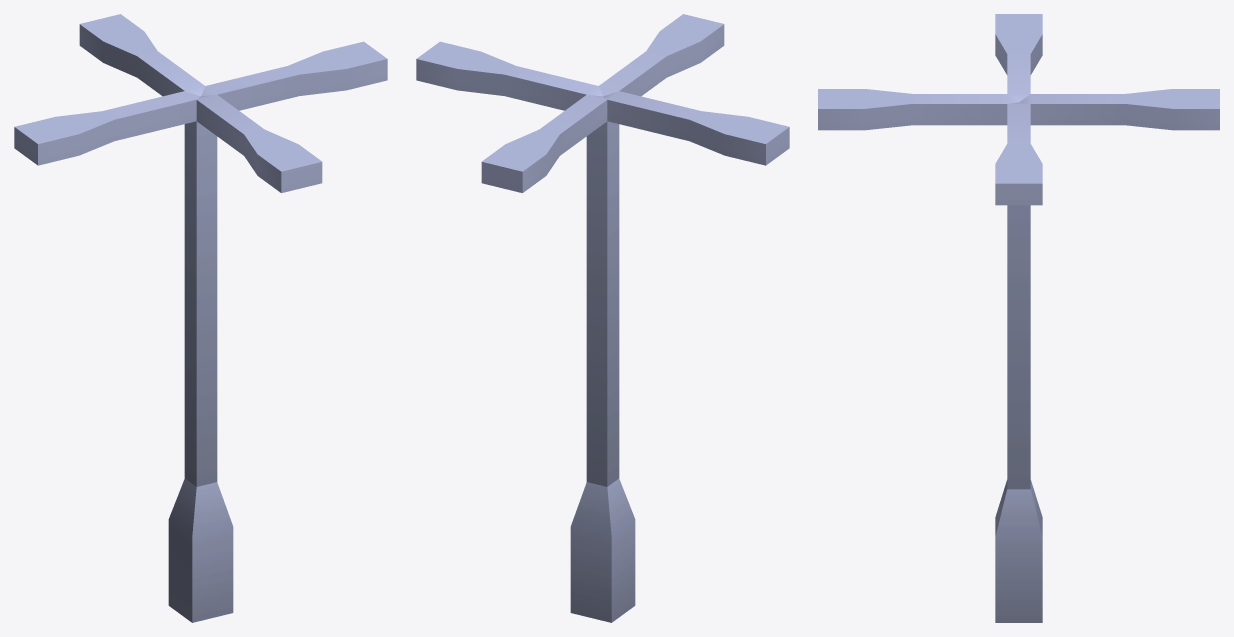
File: light-square-cross.glb
The picture shows the model from 3 angles, left to right: view 1: azimuth 30°, elevation 25°; view 2: azimuth 150°, elevation 25°; view 3: azimuth 270°, elevation 25°; orthographic projection.
Parts seen in each view (by area): view 1: light-square-cross; view 2: light-square-cross; view 3: light-square-cross.
Part boxes in pixels (<box>): light-square-cross: <box>14,14,387,622</box>; light-square-cross: <box>416,14,789,622</box>; light-square-cross: <box>818,14,1219,622</box>.
Size of the model in its own units: 0.425 by 0.6 by 0.425.
1 material, 1 textured.
